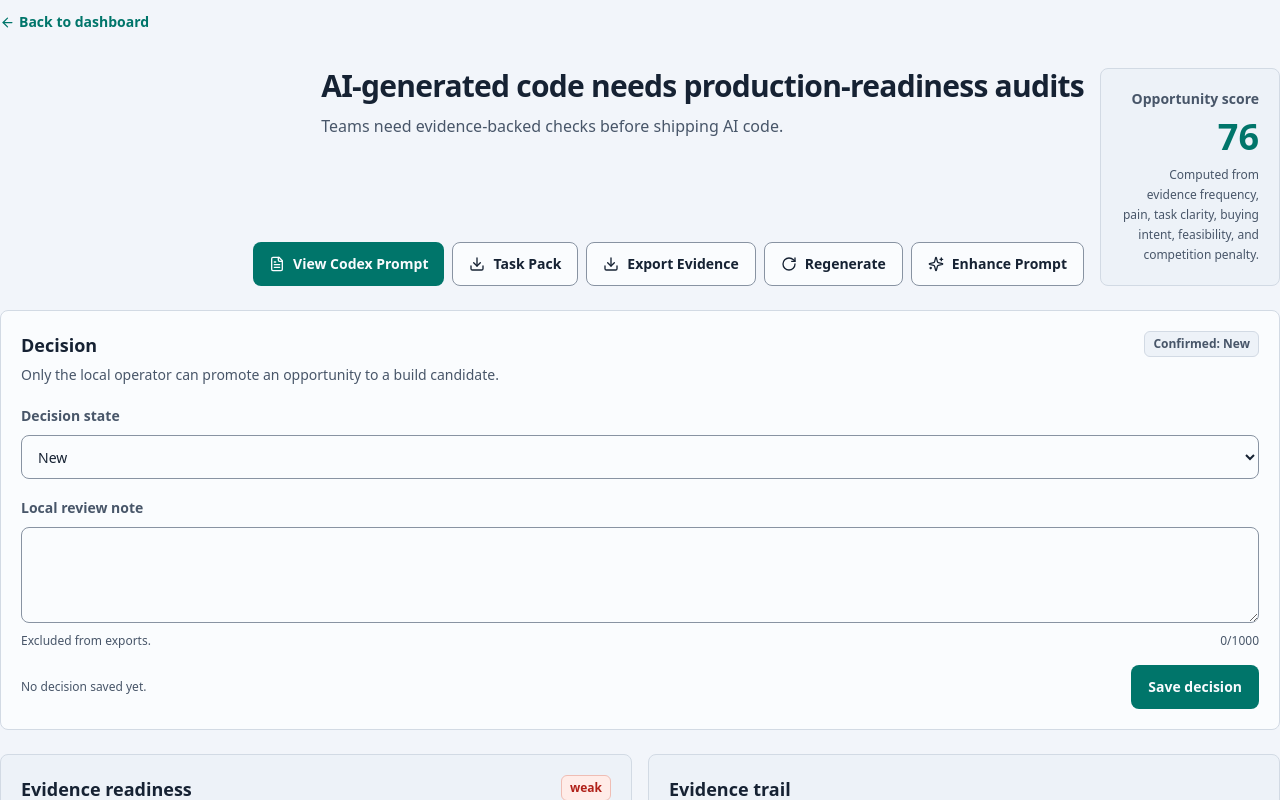
Test: OpportunityDetail › sends the local operator token when enhancing a prompt
Step 1. Click the button "Enhance Prompt" → (997, 264), box [911,242,1084,286]
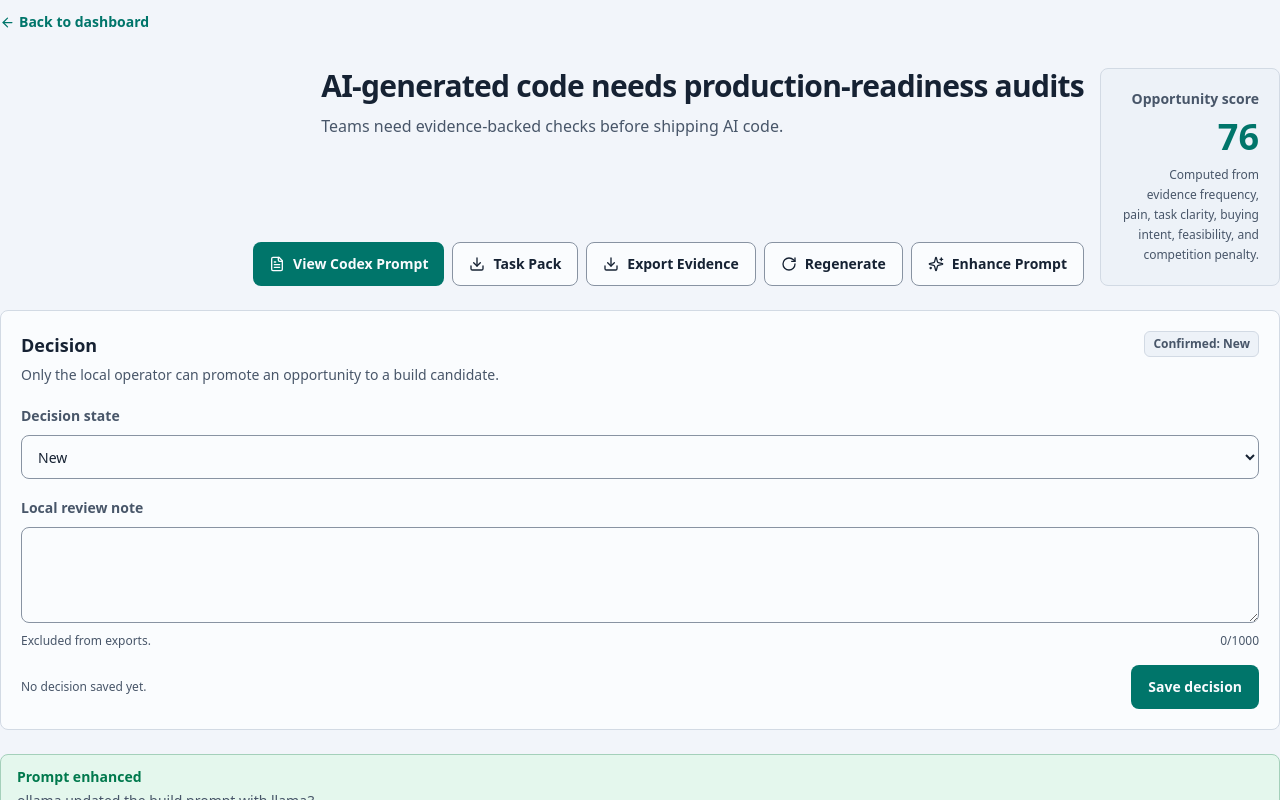
Now the text "Prompt enhanced" is shown, box [17,767,142,786]
